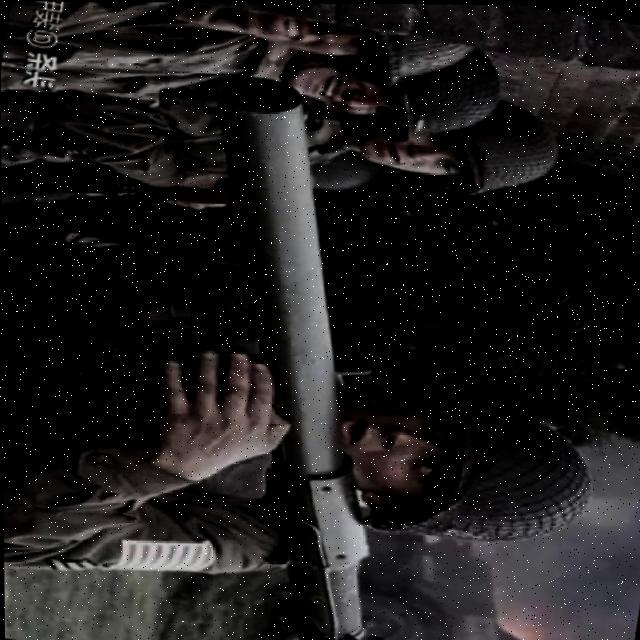rocket: (126, 67, 480, 640)
